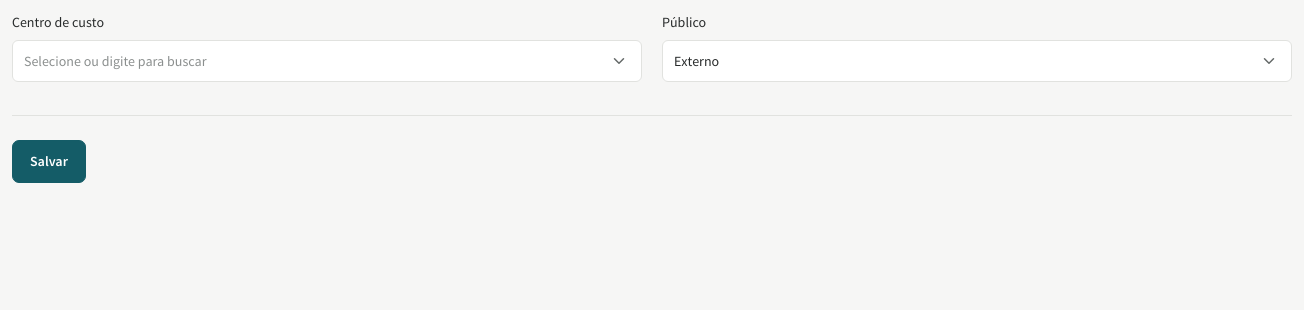
Formulários estruturados › permite digitar para localizar opções válidas da vaga
Later steps or results of the test are not shown.
Click the button named "Mostrar opções de Centro de custo" at (619, 61), box x1=597 y1=41 x2=641 y2=81
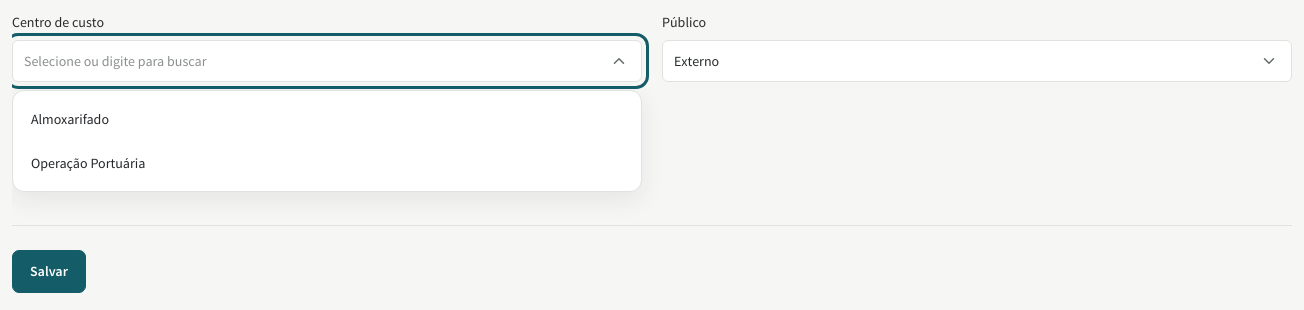
expect the option "Almoxarifado" is shown: met, box x1=19 y1=97 x2=635 y2=141
Click the button named "Fechar opções de Centro de custo" at (619, 61), box x1=597 y1=41 x2=641 y2=81
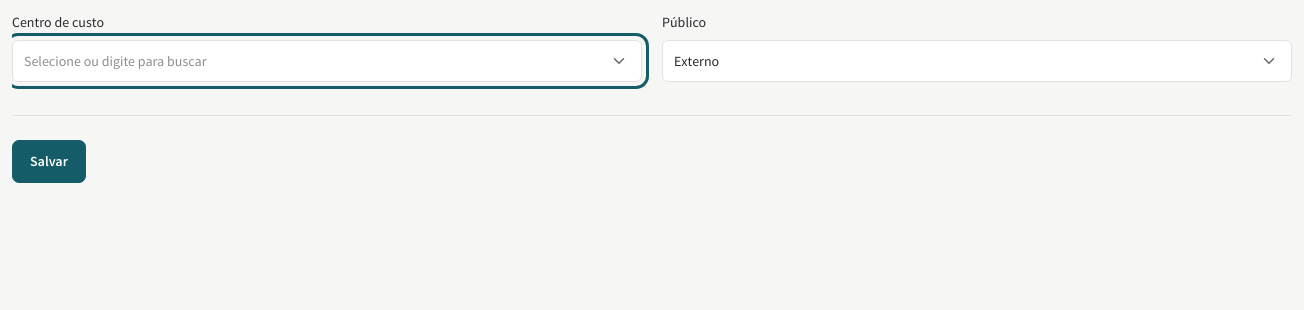
Type "operacao" into the dropdown labelled "Centro de custo" at (327, 61), box x1=12 y1=40 x2=642 y2=82
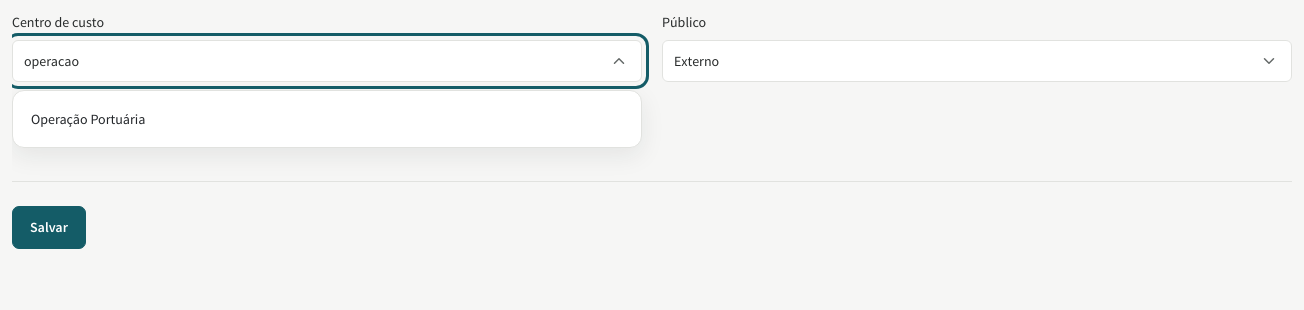
expect the option "Almoxarifado" is not shown: met
expect the option "Operação Portuária" is shown: met
Click the option "Operação Portuária" at (88, 118), box x1=19 y1=97 x2=635 y2=141
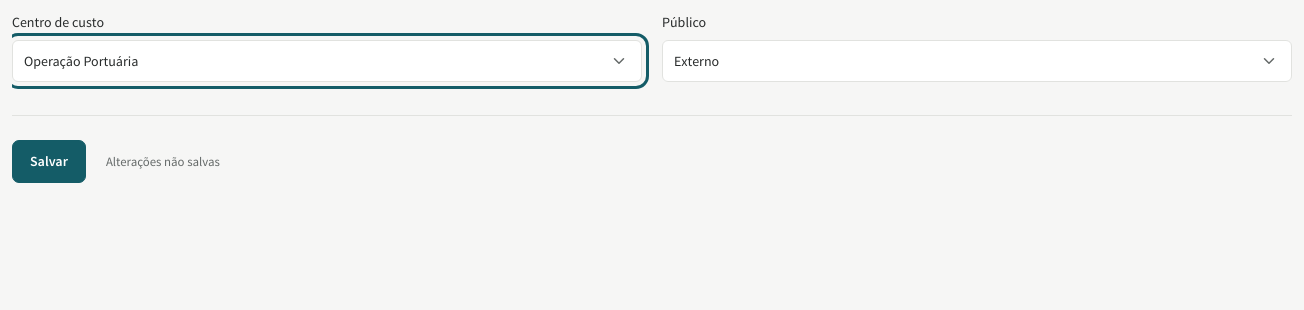
expect the dropdown labelled "Centro de custo" holds "Operação Portuária": met, box x1=12 y1=40 x2=642 y2=82
